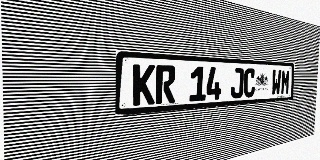1: (189, 66, 207, 102)
4: (206, 67, 222, 100)
C: (243, 68, 256, 98)
J: (230, 68, 244, 99)
K: (132, 64, 155, 106)
M: (281, 70, 290, 95)
R: (155, 65, 176, 104)
W: (271, 69, 281, 96)
